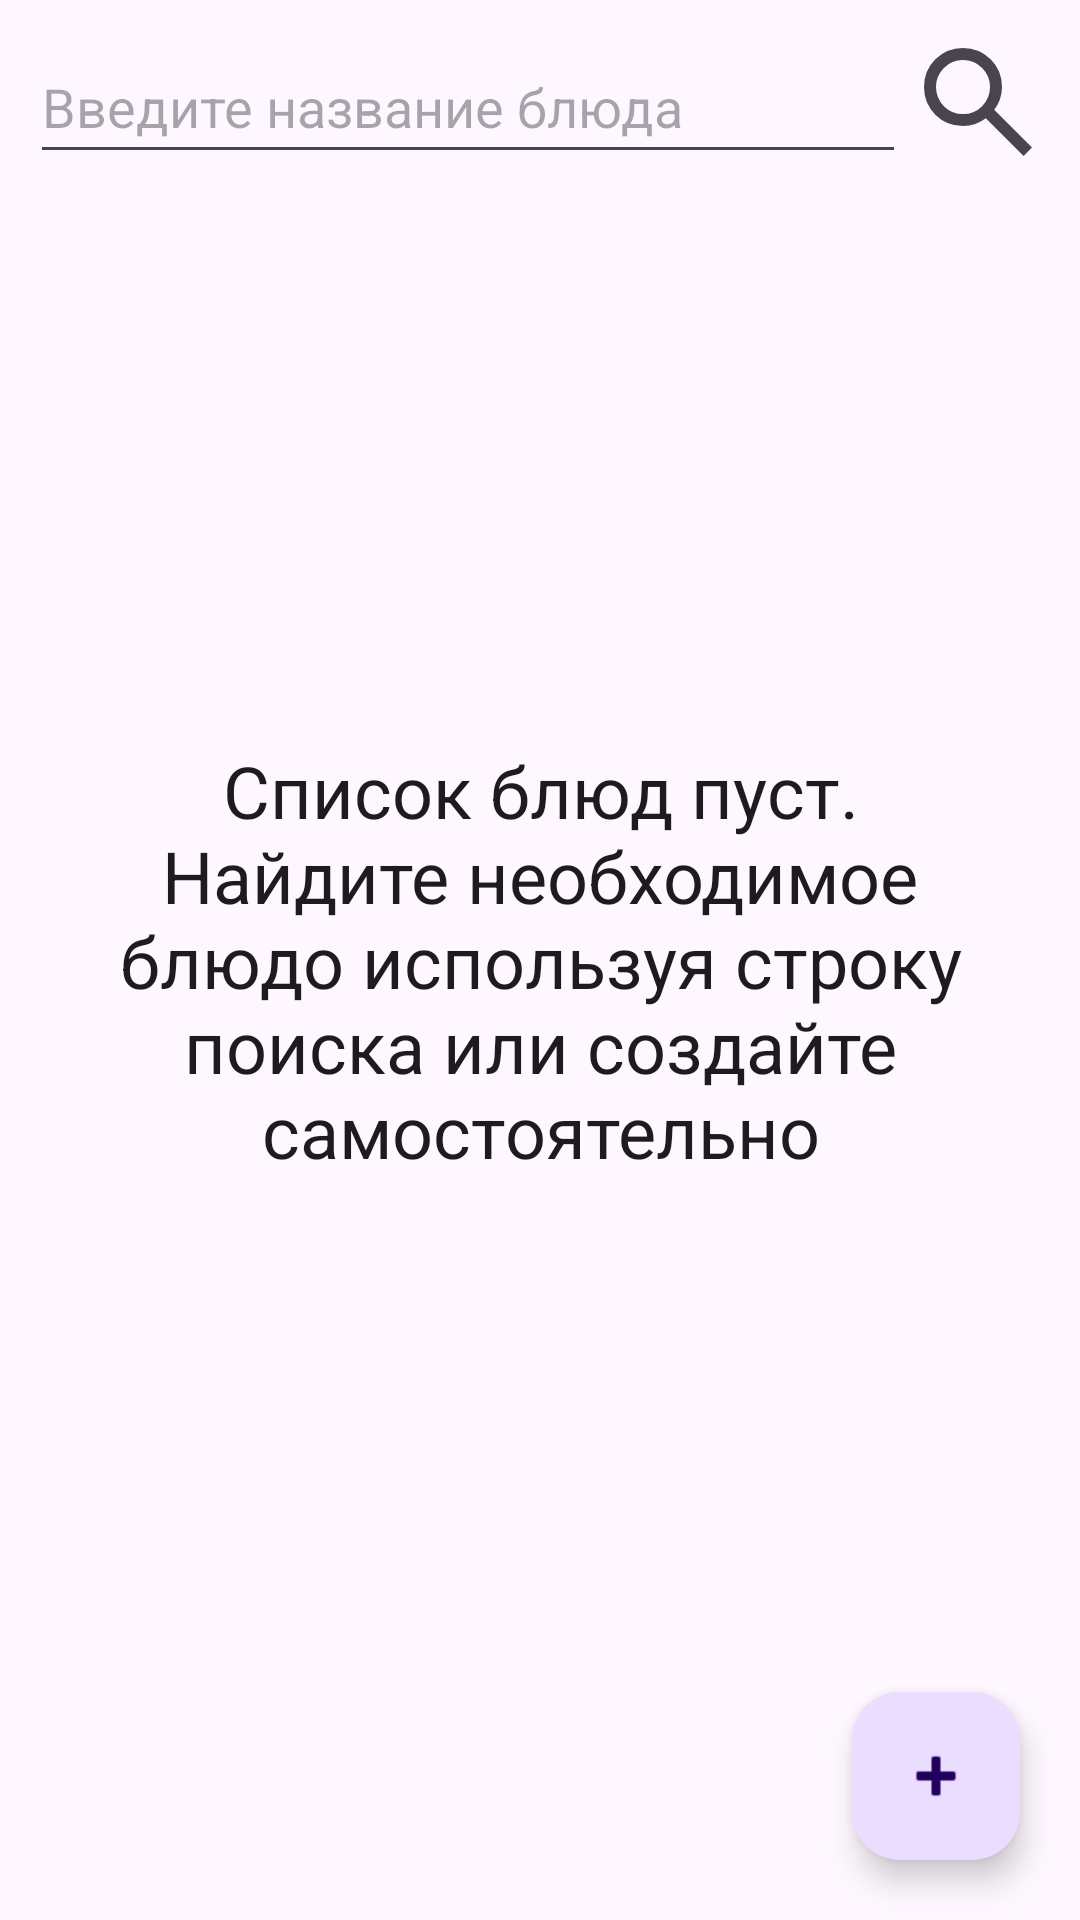

Locate icon controls on the screen. Image size 1080px×1920px, boxes as (x1, y1, x2, y2).
add: (852, 1692, 1020, 1860)
search: (924, 48, 1032, 156)
